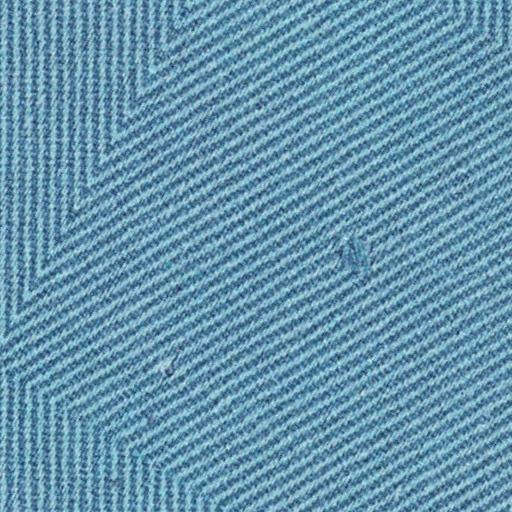knot: (328, 230, 383, 285)
